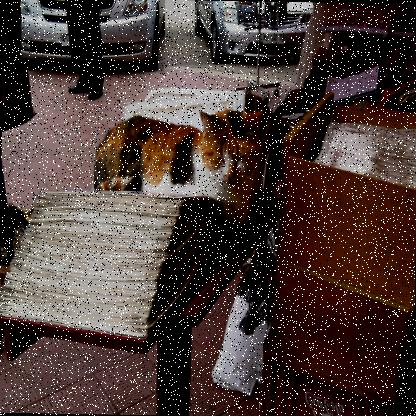Car: (19, 0, 165, 74), (192, 0, 314, 63)
